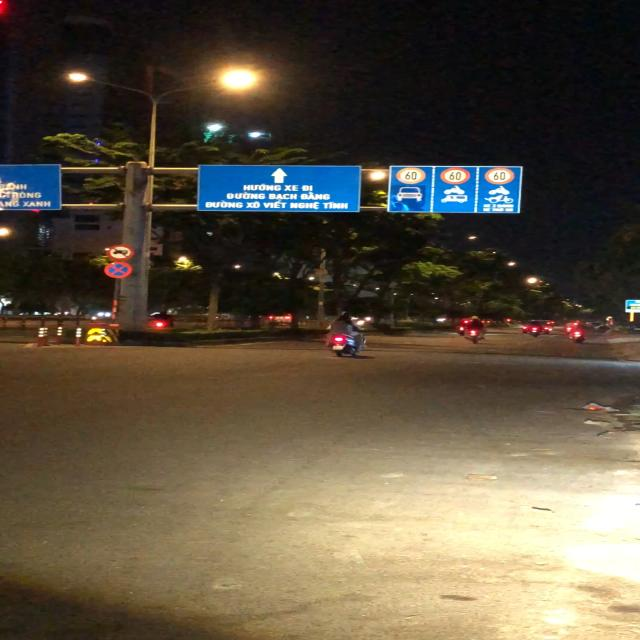Bien bao cam dung xe va do xe: (104, 261, 134, 279)
Bien bao cam xe oto tai: (105, 243, 134, 261)
Bien bao toc do toi da cho phep: (394, 166, 428, 186), (484, 166, 516, 187), (438, 167, 472, 186)
